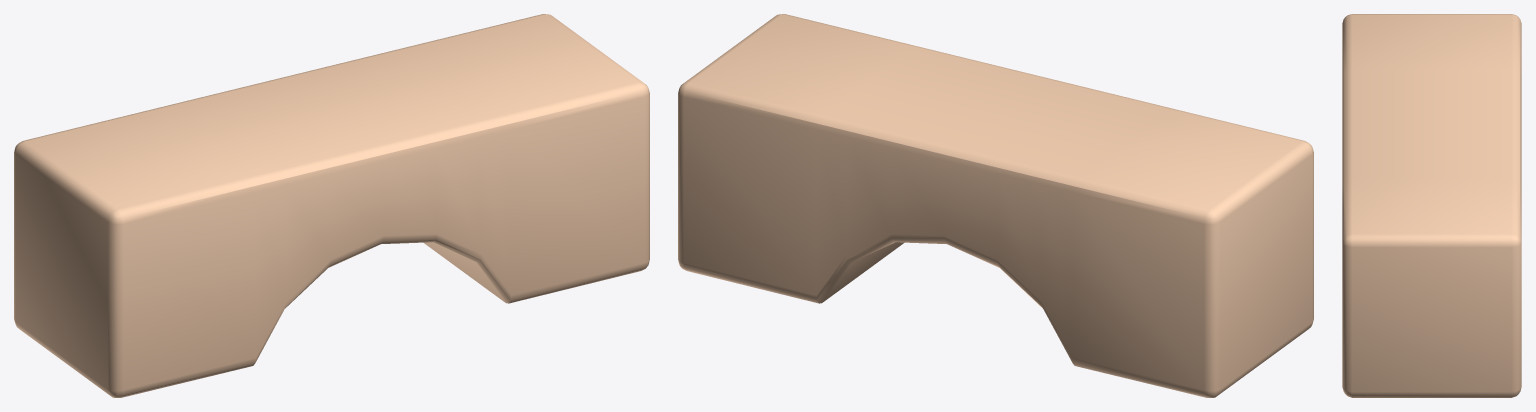
The model's file is arch brick.fbx.
3 renders of one model, left to right at view 1: azimuth 30°, elevation 25°; view 2: azimuth 150°, elevation 25°; view 3: azimuth 270°, elevation 25°, orthographic. The views are drawn at different scales.
Parts seen in each view (by area): view 1: Cube.008; view 2: Cube.008; view 3: Cube.008.
Boxes of the visible parts, left/top/right/bottom form: Cube.008: left=14, top=14, right=649, bottom=397; Cube.008: left=678, top=14, right=1313, bottom=397; Cube.008: left=1342, top=14, right=1521, bottom=397.
Size of the model in its own units: 6 by 2 by 2.
